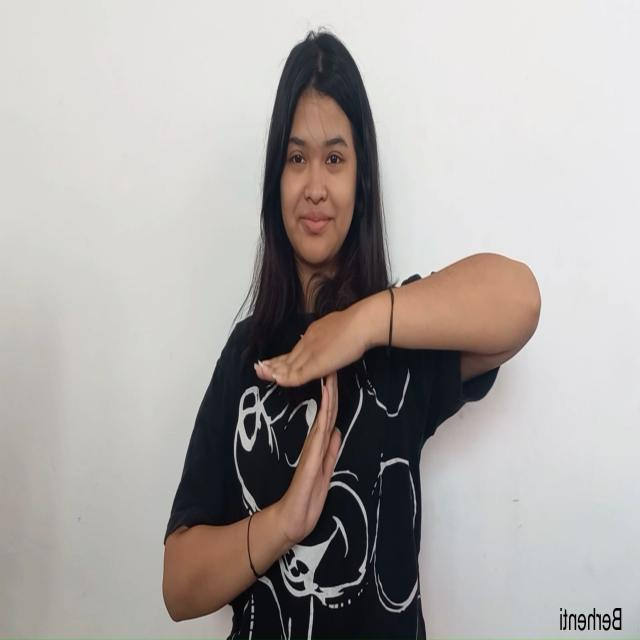Berhenti -BISINDO-: (253, 286, 384, 582)
